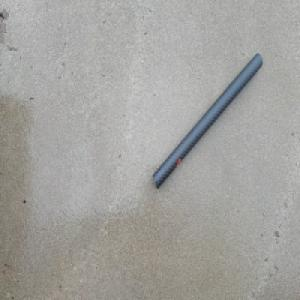LuggagePart: (152, 50, 262, 191)
